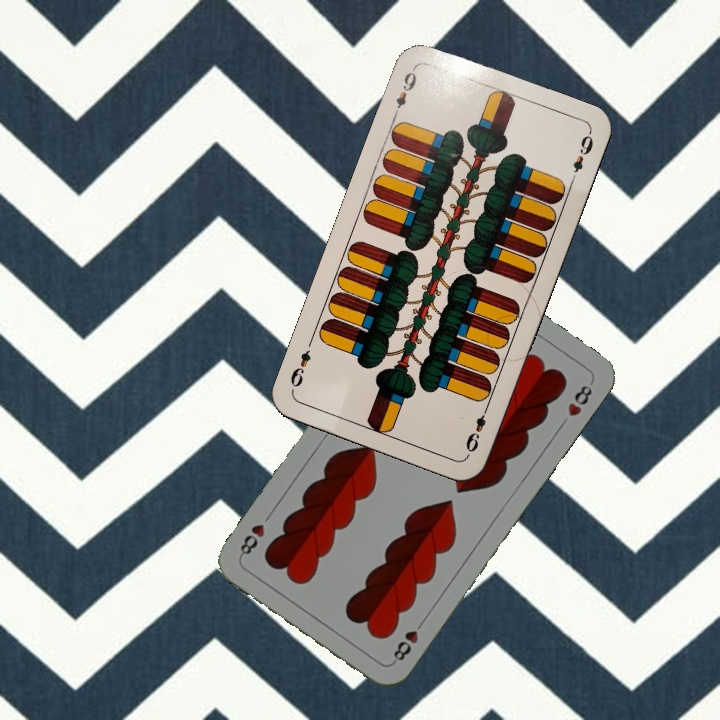E9: (461, 401, 492, 458), (392, 64, 420, 111)
H8: (388, 615, 428, 666)
